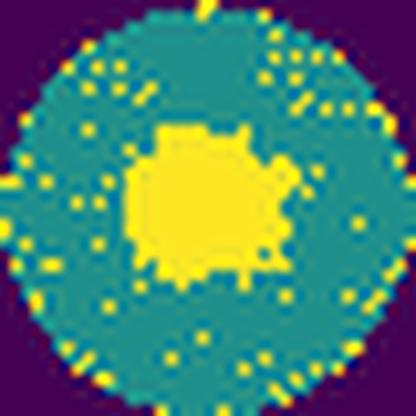Center: (120, 124, 302, 296)
